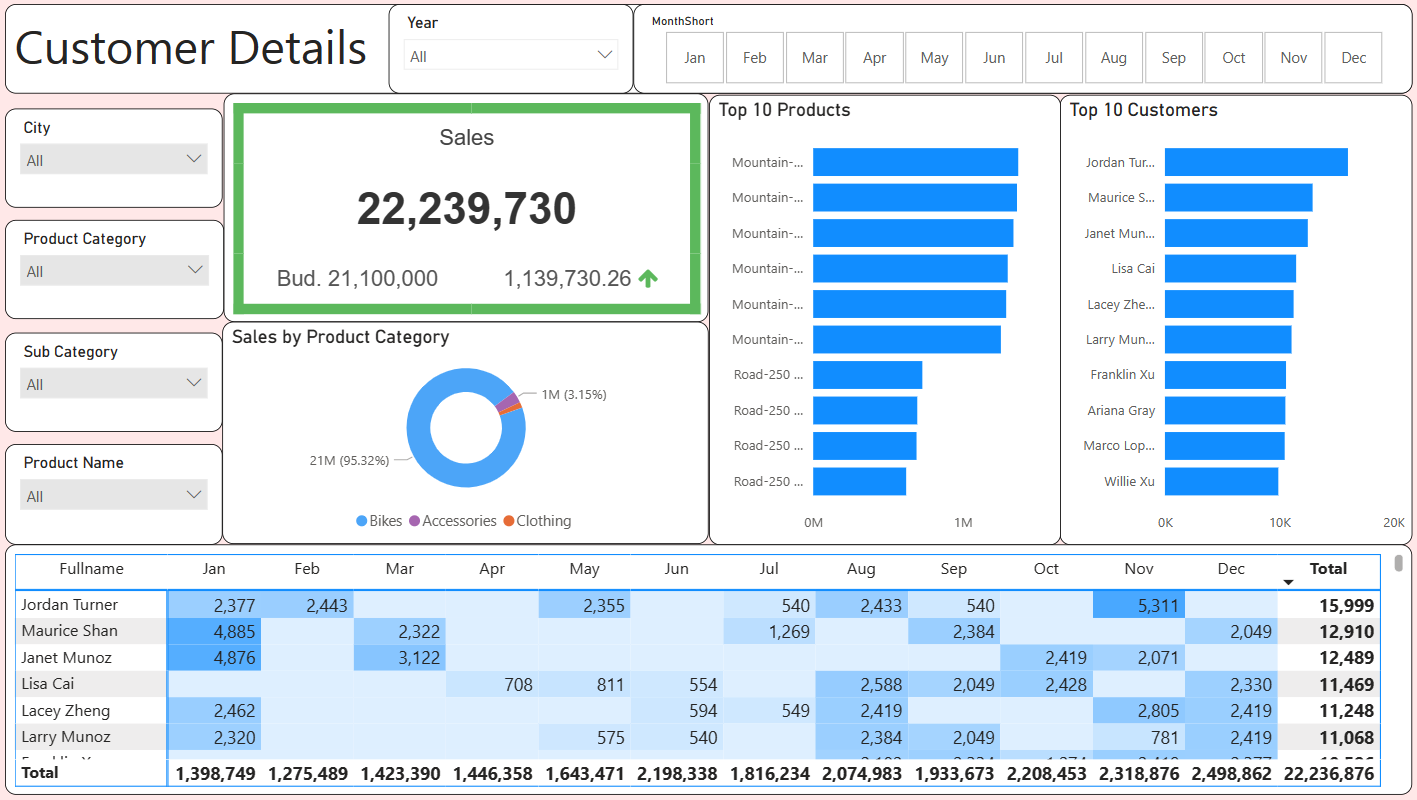

What the dashboard file says about the page in this screenshot:
{"tool":"powerbi","page":{"name":"Customer Details","canvas":[1280,720],"ordinal":1},"visuals":[{"type":"textbox","box":[0,0,1279.1,81.4],"z":0},{"type":"slicer","fields":{"Values":["Dim_Date.MonthShort"]},"box":[570.8,0,708.7,81.4],"z":1000},{"type":"slicer","fields":{"Values":["Dim_Date.Year"]},"box":[348.1,0,222.7,81.4],"z":2000},{"type":"slicer","fields":{"Values":["Dim_Customer.City"]},"box":[0,94.9,197.8,90.4],"z":3000},{"type":"slicer","fields":{"Values":["Dim_Product.Product Name"]},"box":[0,400.1,197.8,91.6],"z":4000},{"type":"slicer","fields":{"Values":["Dim_Product.Sub Category"]},"box":[0,298.4,197.8,90.4],"z":5000},{"type":"slicer","fields":{"Values":["Dim_Product.Product Category"]},"box":[0,196.7,198.9,90.4],"z":6000},{"type":"BBED0A4D4D8D44CE93CF2DAFADEE466C","fields":{"actual":["Measure.Sales"],"target1":["Measure.BudgetAmt"],"target2":["Measure.Sales - Bud"]},"box":[198.8,81.4,440.7,208.1],"z":7000},{"type":"donutChart","fields":{"Category":["Dim_Product.Product Category"],"Y":["Measure.Sales"]},"box":[197.8,289.4,441.9,202.3],"z":8000},{"type":"barChart","title":"Top 10 Customers","fields":{"Y":["Measure.Sales"],"Category":["Dim_Customer.Fullname"]},"box":[958.5,82.5,321,409.2],"z":9000},{"type":"barChart","title":"Top 10 Products","fields":{"Y":["Measure.Sales"],"Category":["Dim_Product.Product Name"]},"box":[639.7,82.5,319.9,409.2],"z":10000},{"type":"pivotTable","fields":{"Rows":["Dim_Customer.Fullname"],"Values":["Measure.Sales"],"Columns":["Dim_Date.MonthShort"]},"box":[0,491.9,1279.1,227.9],"z":11000}]}

Visuals, with their boxes in screenshot pixels (x1, y1, x2, y2), scaled from the page's 1280x720 canvas onto the 1417x800 screenshot:
textbox: 0/0/1416/90
slicer - Dim_Date.MonthShort: 632/0/1416/90
slicer - Dim_Date.Year: 385/0/632/90
slicer - Dim_Customer.City: 0/105/219/206
slicer - Dim_Product.Product Name: 0/445/219/546
slicer - Dim_Product.Sub Category: 0/332/219/432
slicer - Dim_Product.Product Category: 0/219/220/319
BBED0A4D4D8D44CE93CF2DAFADEE466C - Measure.Sales x Measure.BudgetAmt: 220/90/708/322
donutChart - Dim_Product.Product Category x Measure.Sales: 219/322/708/546
"Top 10 Customers" barChart: 1061/92/1416/546
"Top 10 Products" barChart: 708/92/1062/546
pivotTable - Dim_Customer.Fullname x Measure.Sales: 0/547/1416/799
